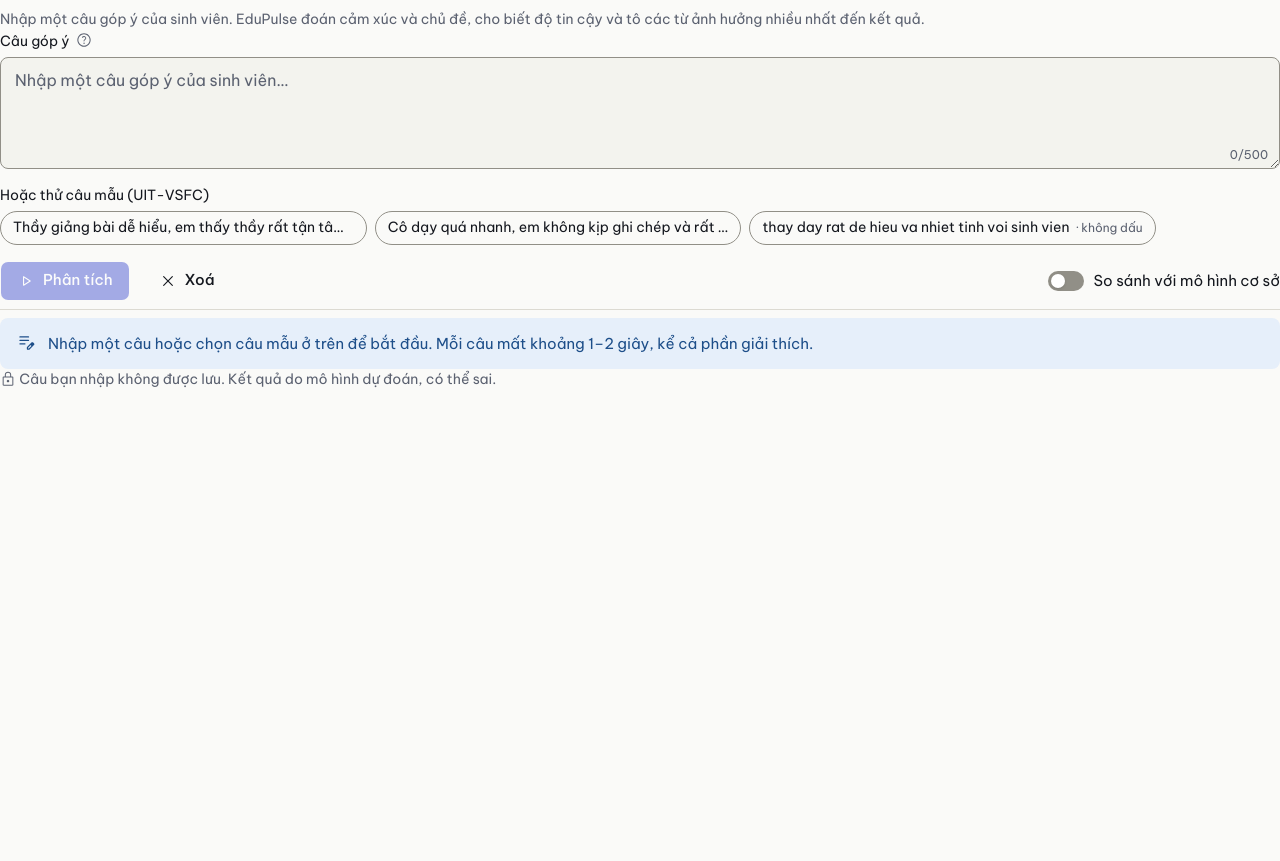
Test case: trang Phân tích câu › so sánh mô hình mặc định tắt; bật thì hỏi riêng và không làm hỏng kết quả chính
The image size is (1280, 861).
Click the text box labelled "Câu góp ý": (640, 113) 0,57 -> 1279,169
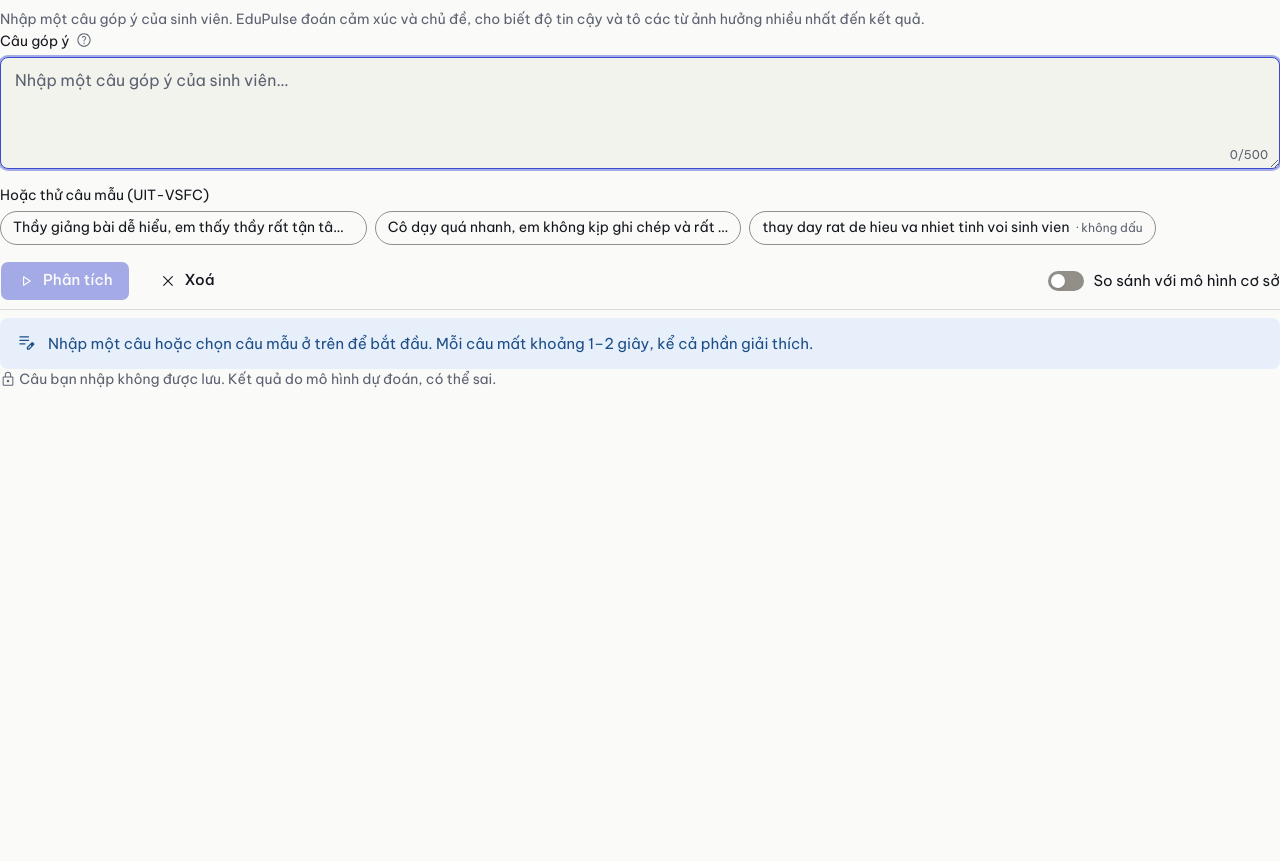
Type keys "Cô dạy quá nhanh, em không kịp ghi chép và rất ít khi được hỏi lại."
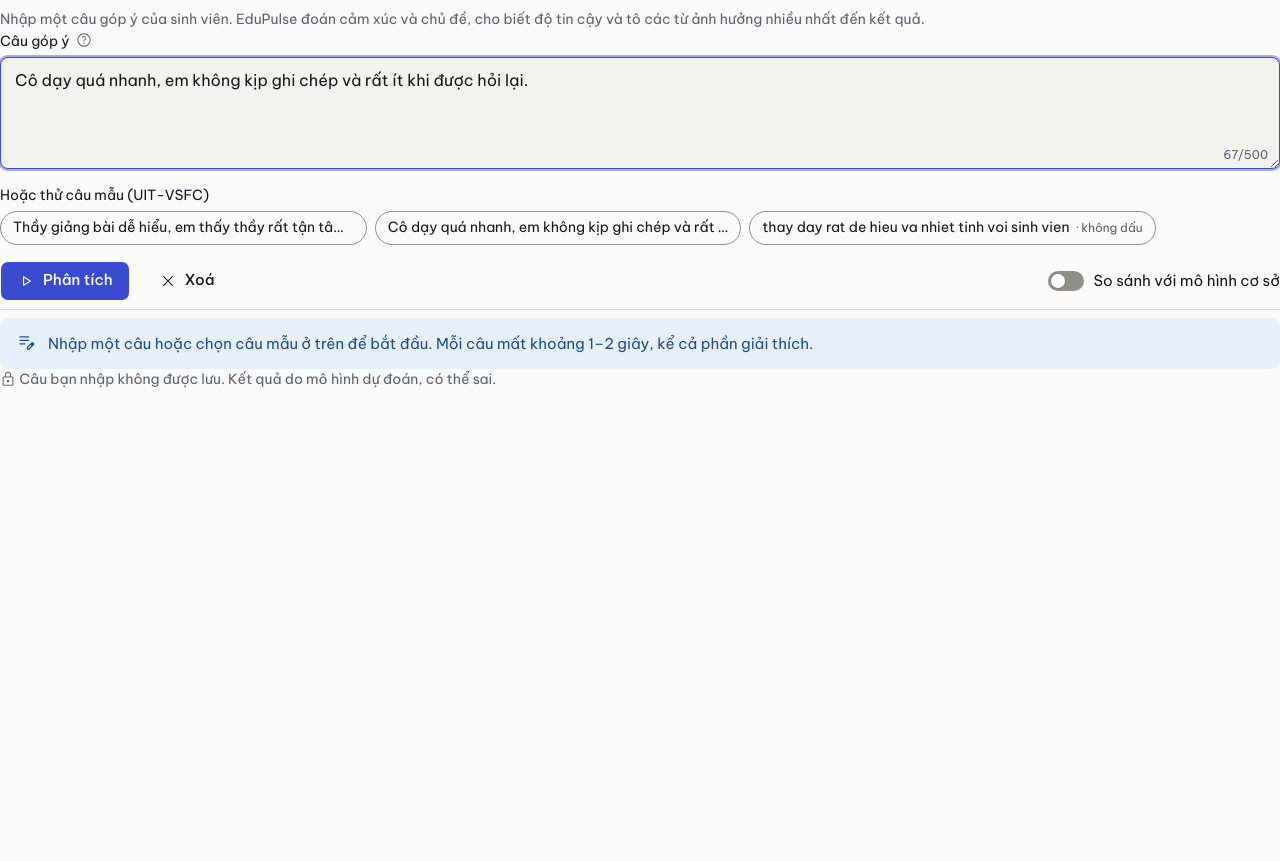
Click the button "Phân tích": (65, 281) 0,261 -> 130,301
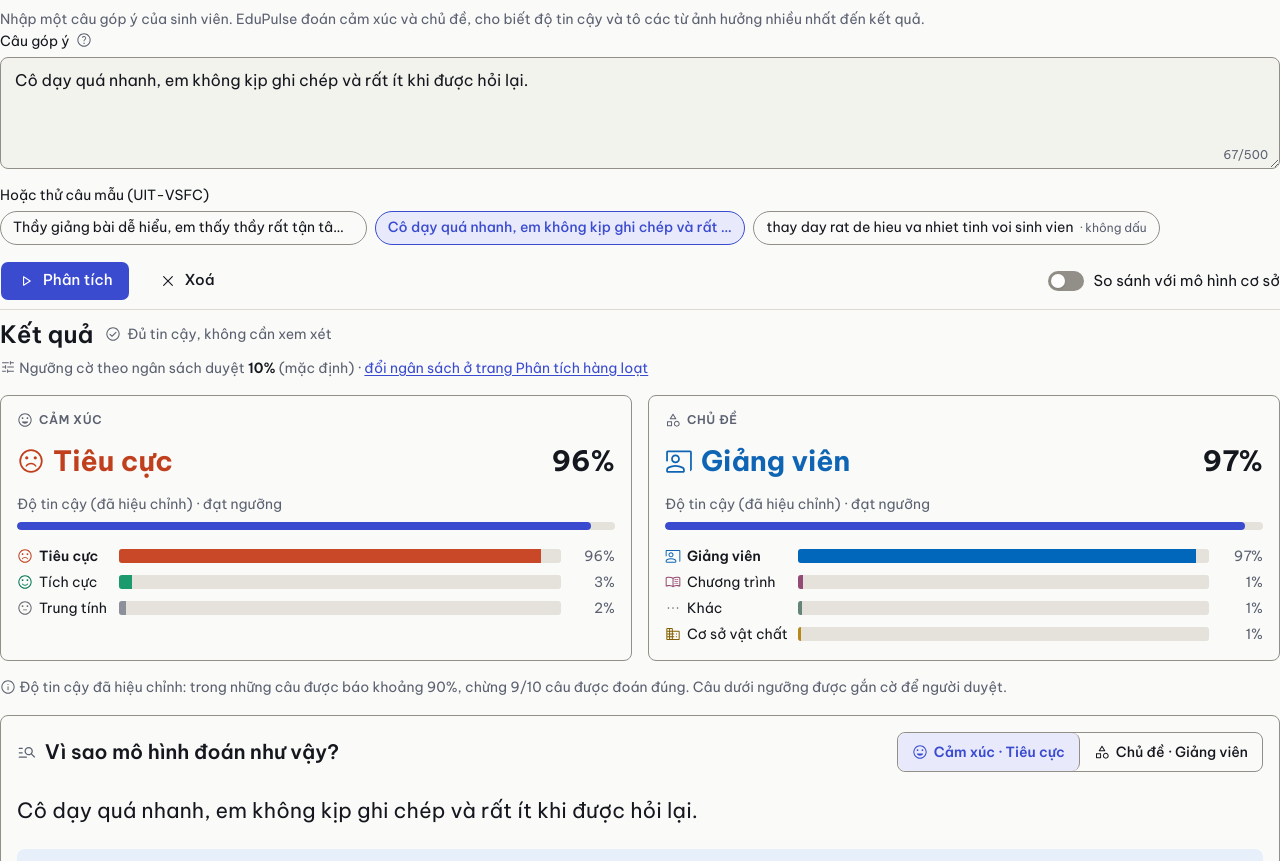
Expected: the heading "Kết quả" is shown, 0,318 -> 93,350
Click the switch named "So sánh với mô hình cơ sở": (1066, 281) 1048,271 -> 1084,291
(page scrolled)
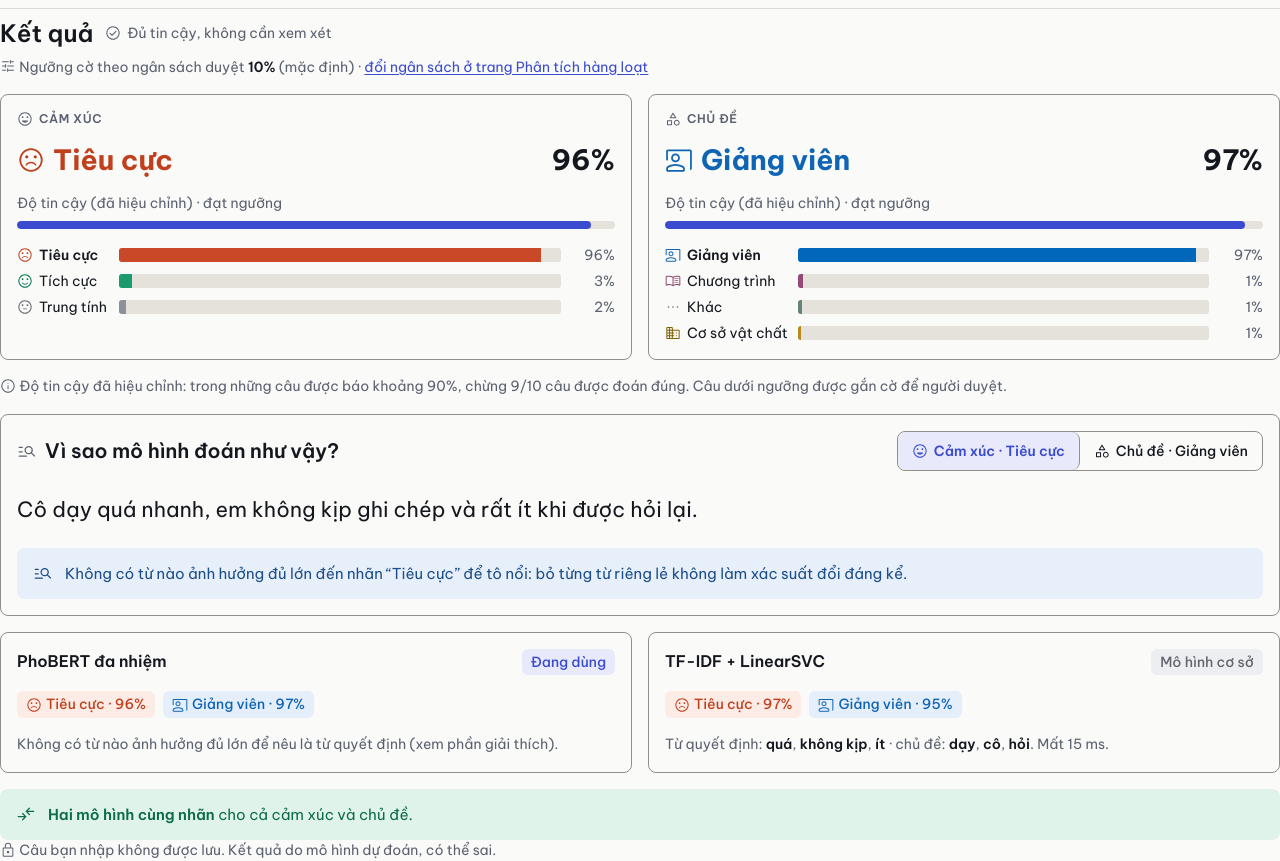
Expected: the element named "So sánh mô hình" is shown, 0,632 -> 1279,840
Expected: the text "TF-IDF + LinearSVC" is shown, 665,649 -> 825,675
Expected: the text "quá" is shown, 766,735 -> 792,753
